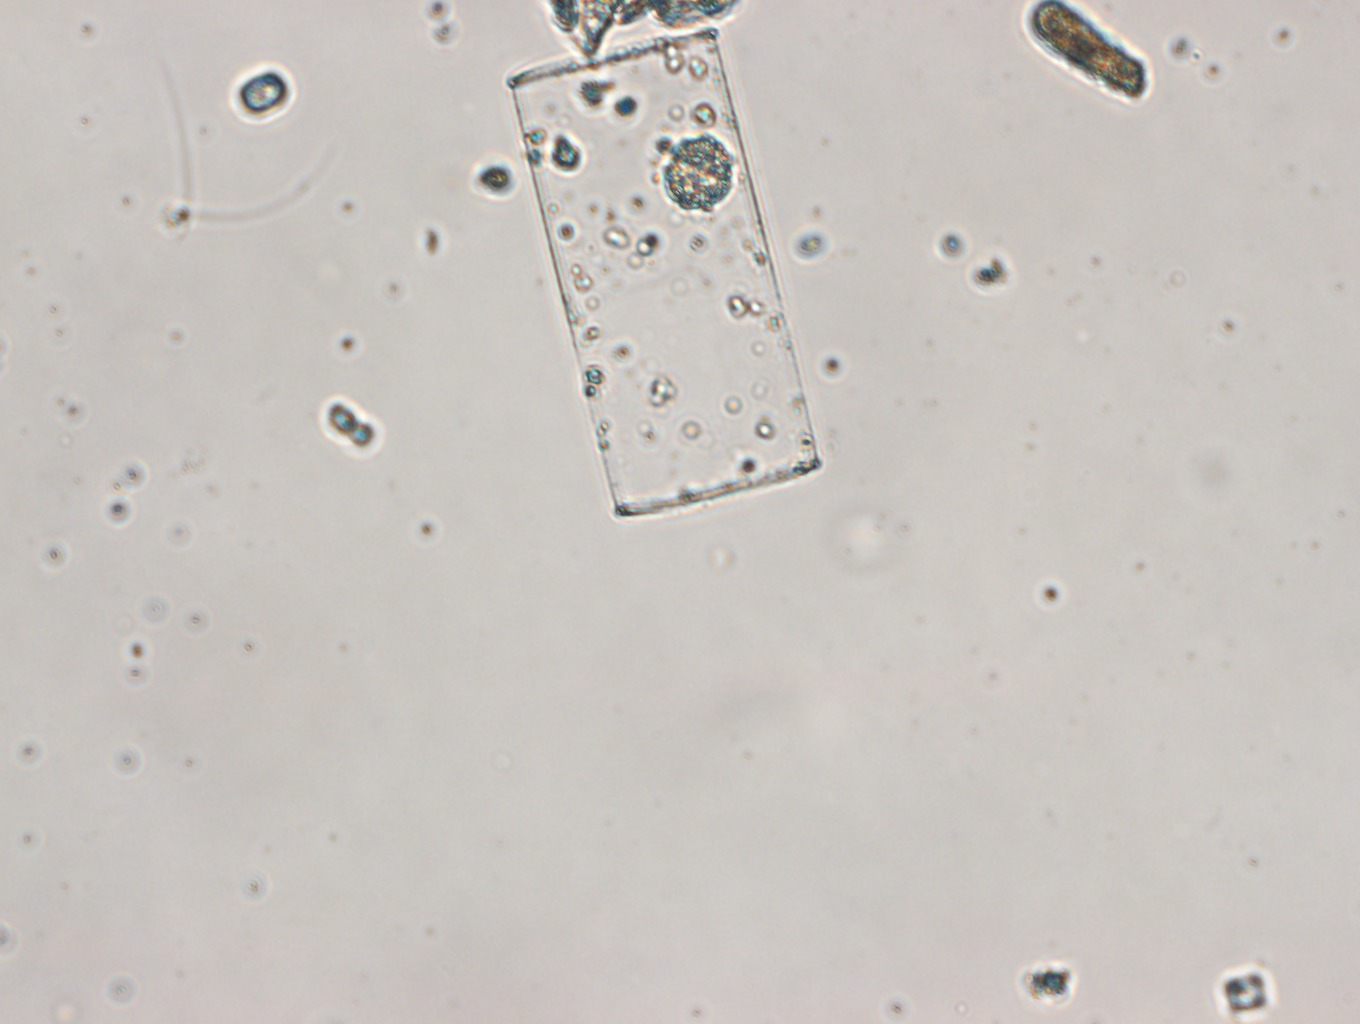guinardia flaccida: (501, 35, 850, 526)
